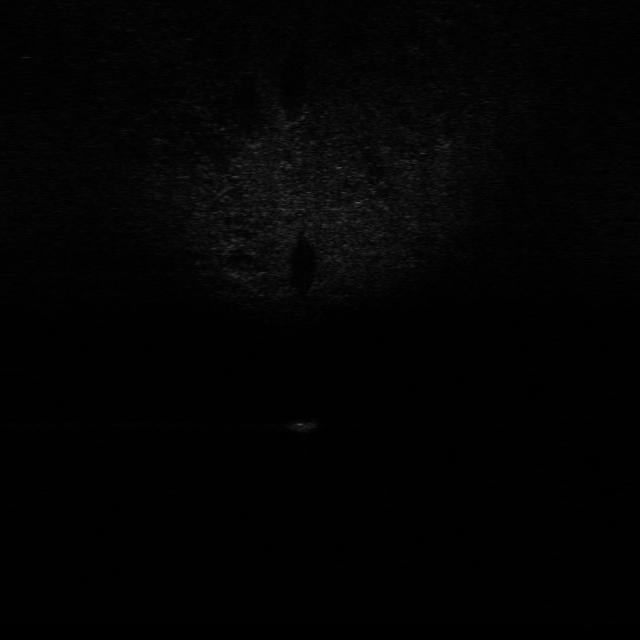cube: (284, 411, 322, 435)
